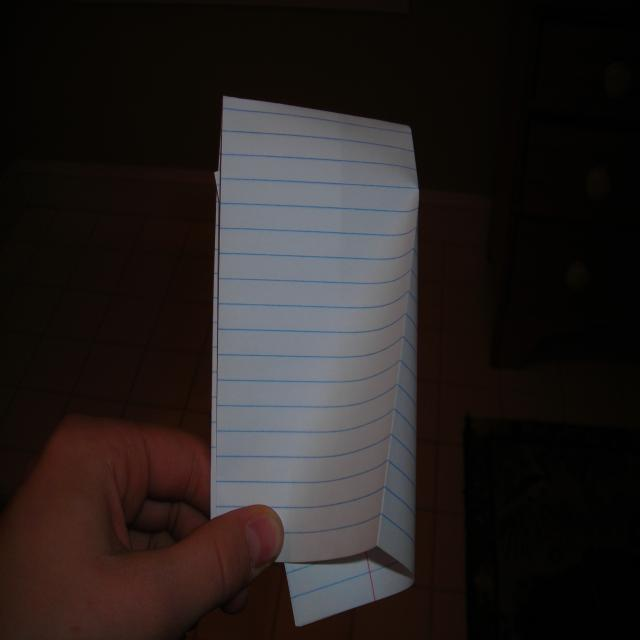PaperCardboard: (211, 98, 415, 634)
